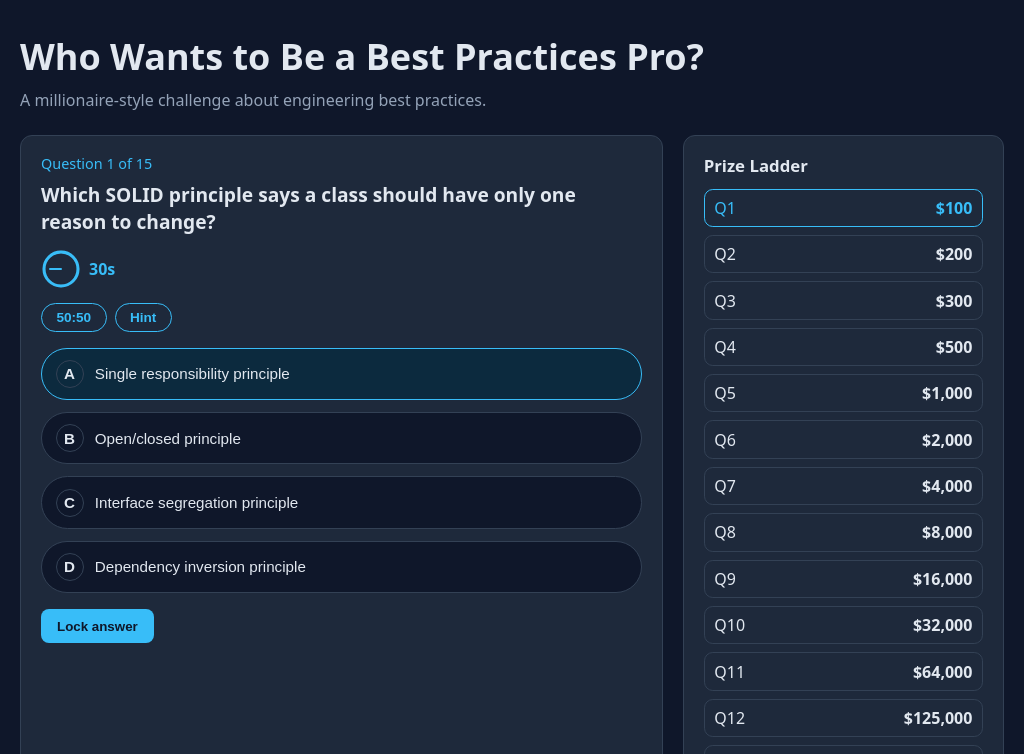
Test case: BestPracticesQuizPage › ends the game on a wrong answer
Step 1. Click the button "B Open/closed principle" → (168, 438), box [41,412,642,464]
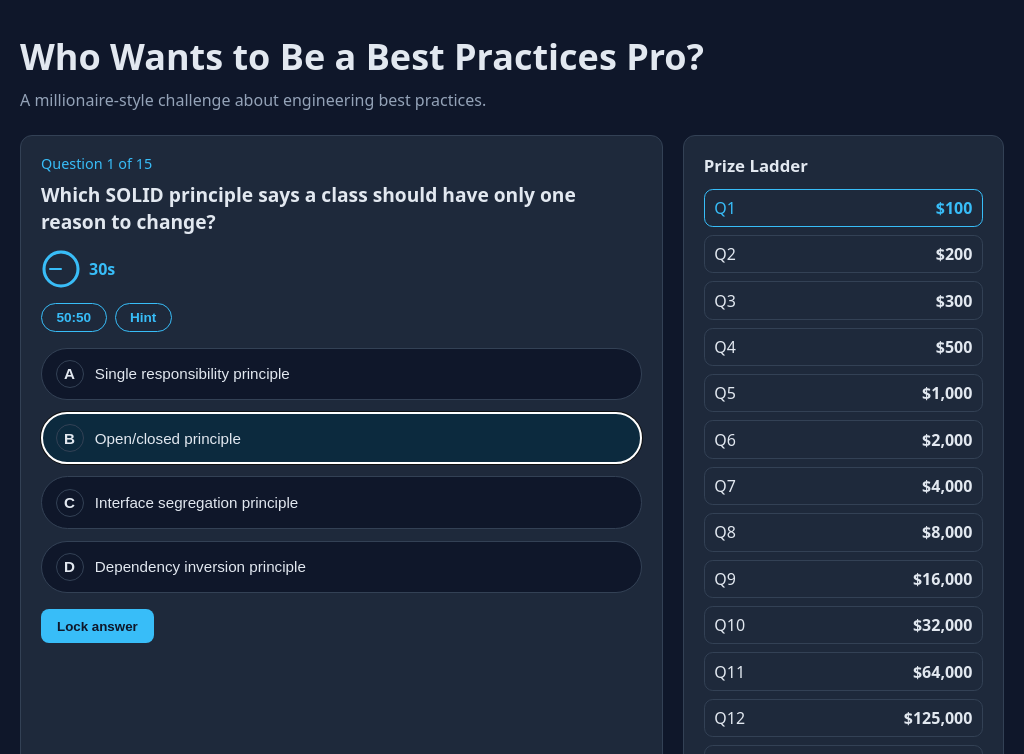
Step 2. Click the button "Lock answer" → (97, 626), box [41,609,154,643]
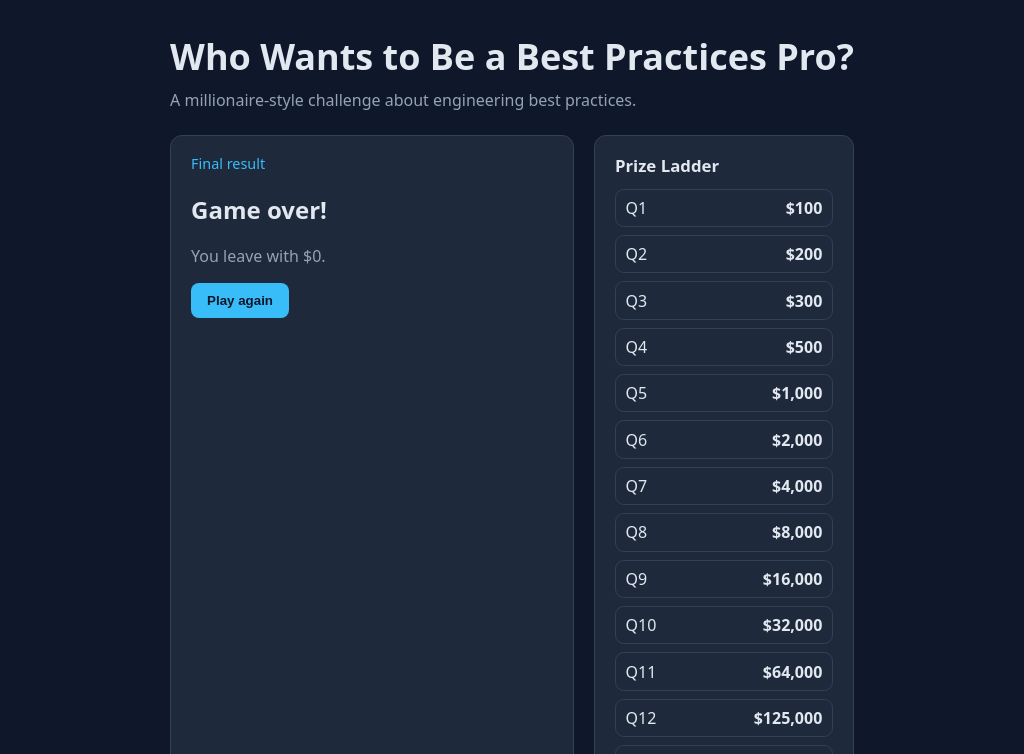
expect the heading "Game over!" is shown: met, box [191,192,327,226]
expect the text "You leave with $0." is shown: met, box [191,245,326,267]
